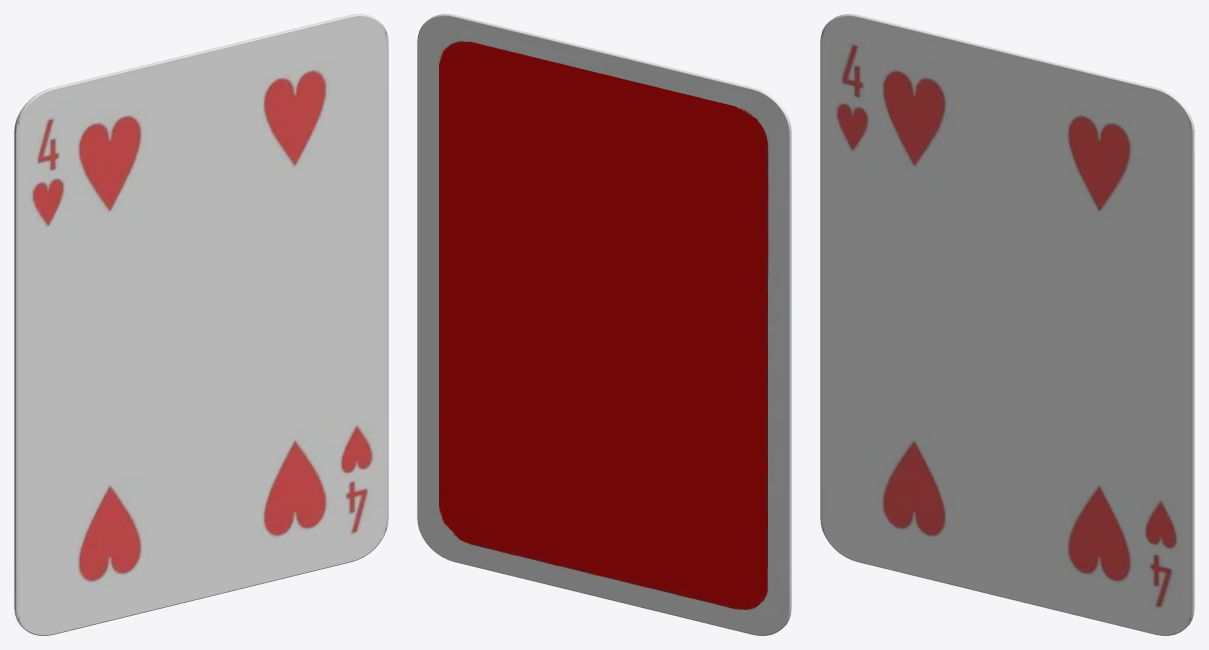
File: hearts_4.glb
3 views of the same model, side by side, from view 1: azimuth 30°, elevation 25°; view 2: azimuth 150°, elevation 25°; view 3: azimuth 330°, elevation 25° (orthographic).
Parts seen in each view (by area): view 1: defaultMaterial.044; view 2: defaultMaterial.044; view 3: defaultMaterial.044.
Boxes of the visible parts, left/top/right/bottom form: defaultMaterial.044: left=14, top=14, right=388, bottom=635; defaultMaterial.044: left=417, top=14, right=791, bottom=635; defaultMaterial.044: left=820, top=14, right=1194, bottom=635.
Size of the model in its own units: 0.1408 by 0.1972 by 0.00111.
1 material, 1 textured.
